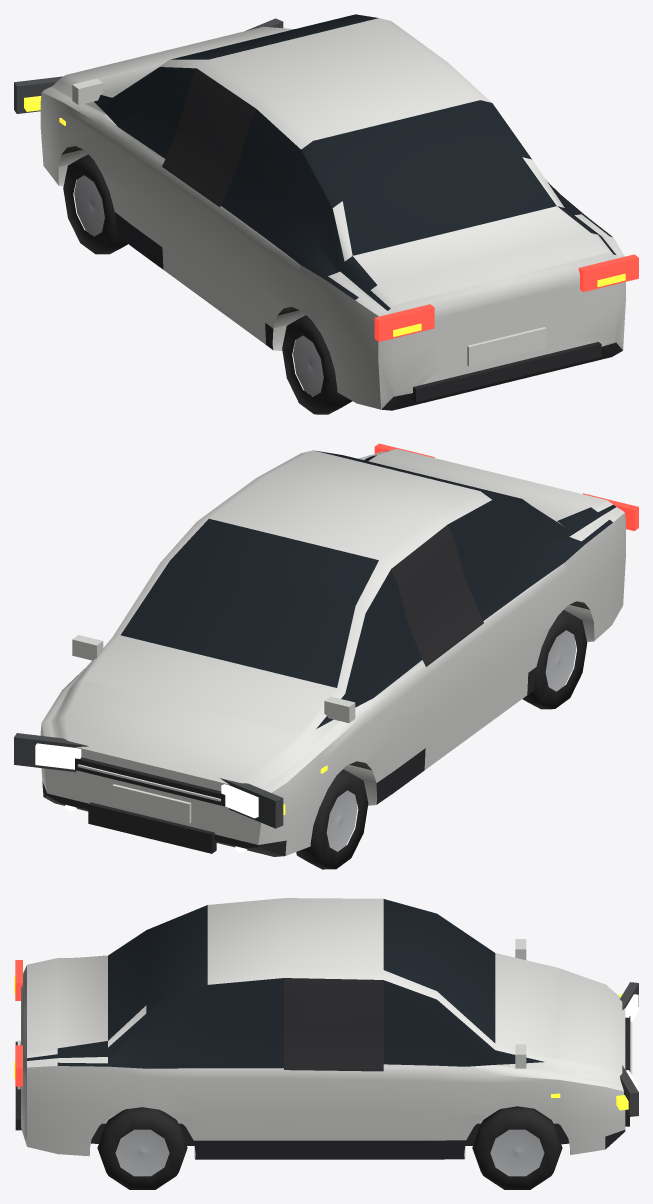
The model's file is sedan_lod1.glb.
3 renders of one model, top to bottom at view 1: azimuth 30°, elevation 25°; view 2: azimuth 150°, elevation 25°; view 3: azimuth 270°, elevation 25°, orthographic. The views are drawn at different scales.
Visible parts, largest first — view 1: body, wheel_rl, wheel_fl; view 2: body, wheel_fl, wheel_rl; view 3: body, wheel_fr, wheel_rr.
Boxes of the visible parts, x1,y1,x2,y2 form: body: [14, 14, 638, 410]; wheel_rl: [282, 315, 352, 414]; wheel_fl: [63, 154, 127, 254]; body: [14, 443, 638, 856]; wheel_fl: [296, 769, 368, 869]; wheel_rl: [522, 610, 587, 709]; body: [14, 898, 638, 1159]; wheel_fr: [472, 1106, 562, 1189]; wheel_rr: [97, 1107, 187, 1189].
Size of the model in its own units: 1.79 by 1.49 by 4.08.
2 materials, 1 textured.
